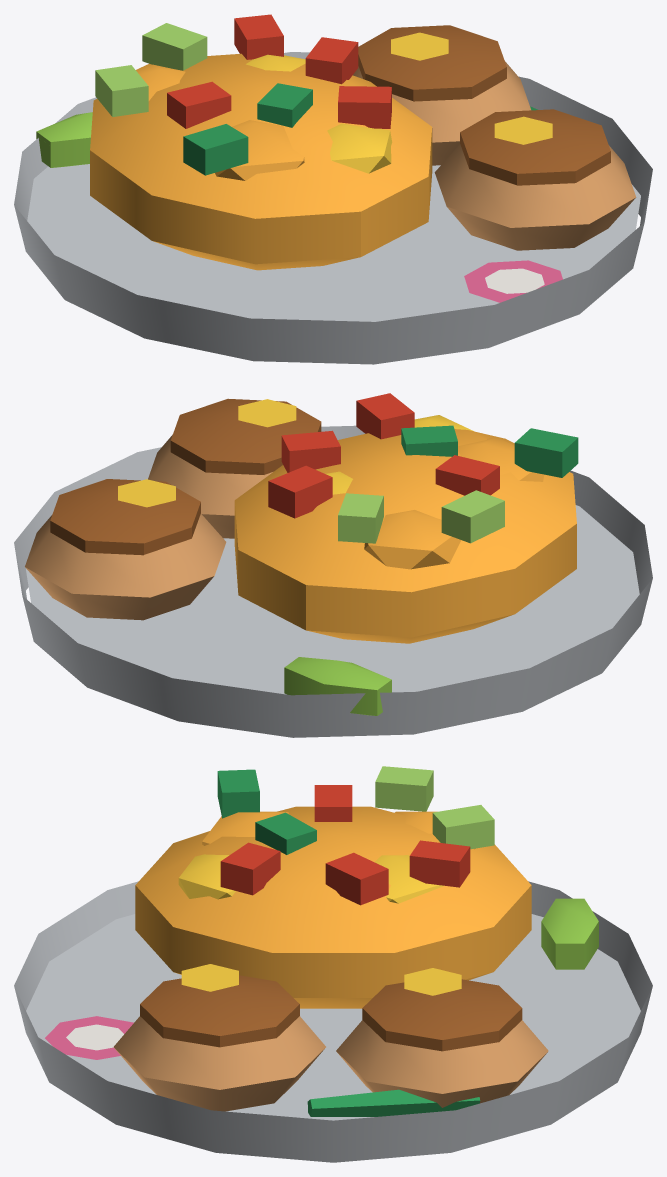
The model's file is pass_bhurji.glb.
3 views of the same model, one above another, from view 1: azimuth 30°, elevation 25°; view 2: azimuth 150°, elevation 25°; view 3: azimuth 270°, elevation 25° (orthographic).
Visible parts, largest first — view 1: pass_bhurji; view 2: pass_bhurji; view 3: pass_bhurji.
Part boxes in pixels (x1,y1,x2,y2): pass_bhurji: (14, 14, 652, 364); pass_bhurji: (14, 393, 652, 737); pass_bhurji: (14, 766, 652, 1162).
Bounding box in the file's own units: 0.27 × 0.08 × 0.27.
Materials: 1 (1 with a texture image).
